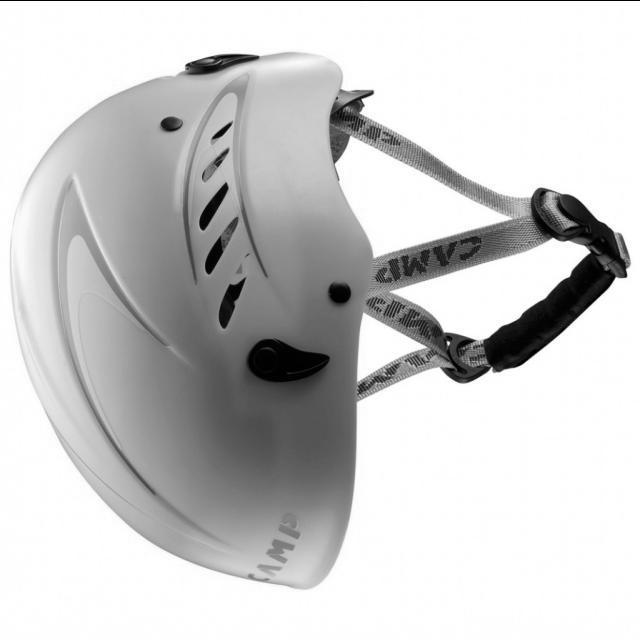safety_helmet: (9, 48, 377, 591)
